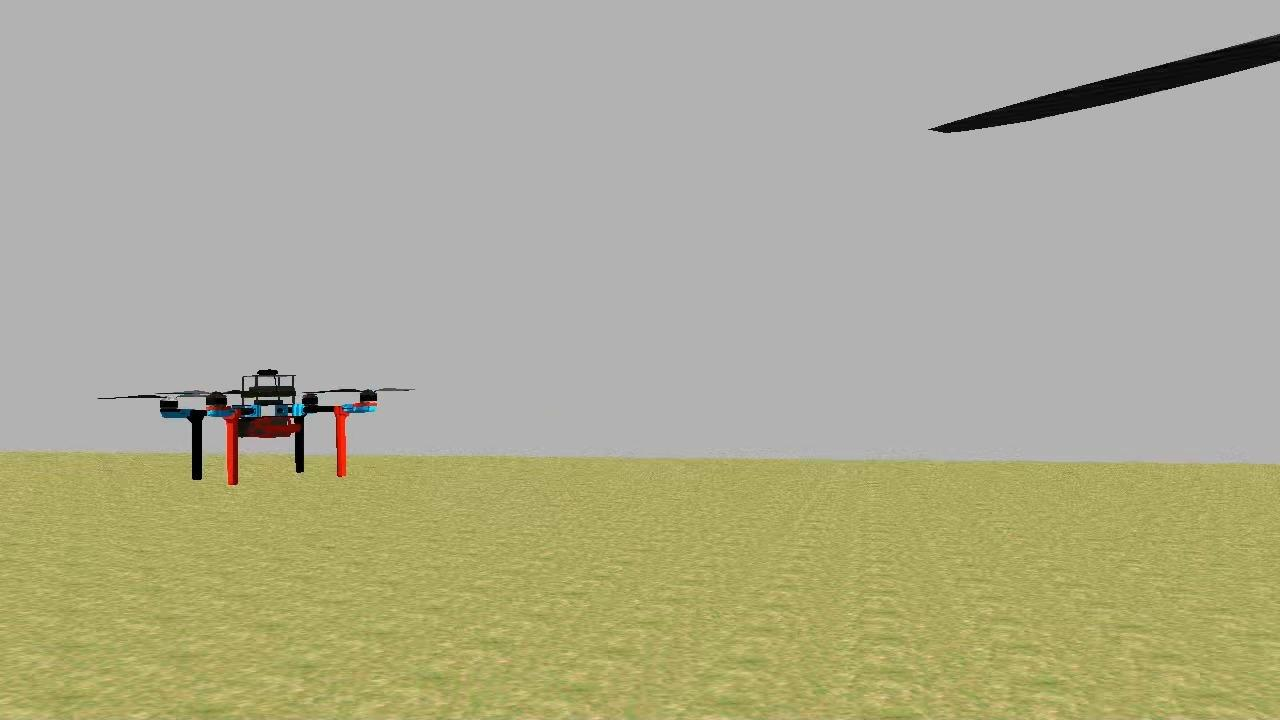UAV: (154, 360, 383, 497)
